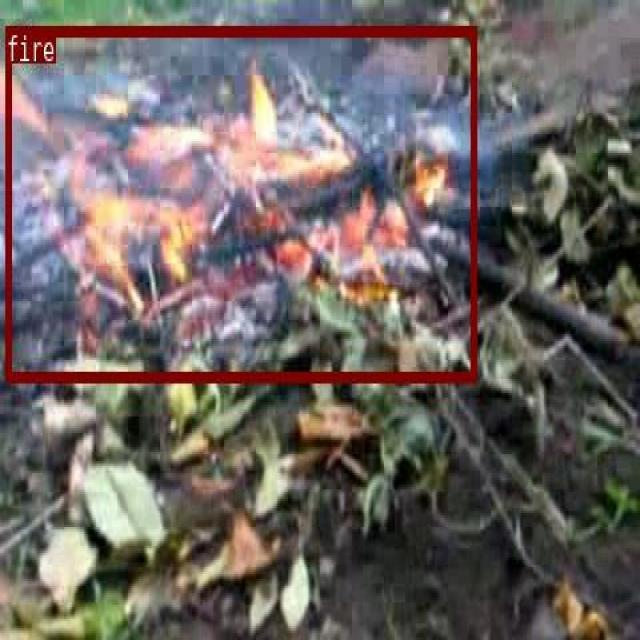fire: (5, 26, 475, 380)
